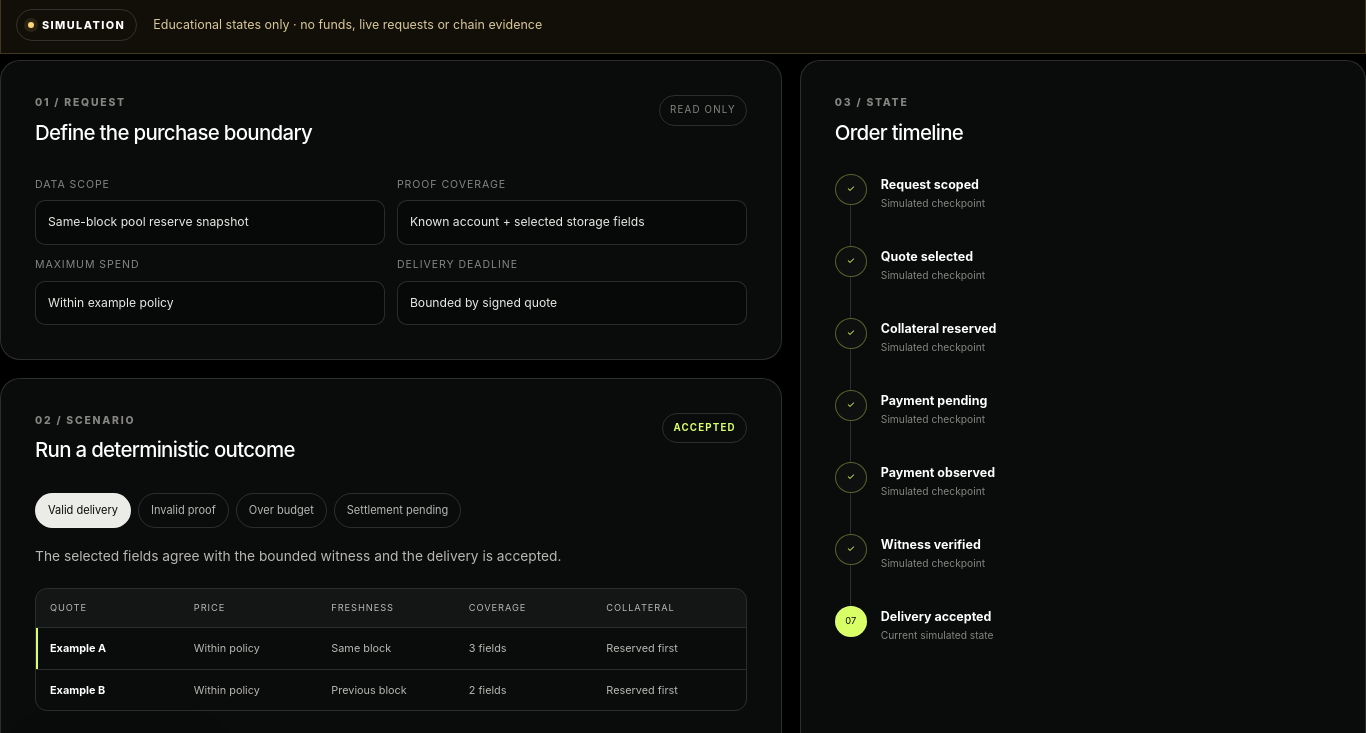
Test case: DemoConsole › separates original payment and warranty receipts for invalid delivery
Click the button "Invalid proof" at (183, 510), box left=138, top=493, right=229, bottom=528
(page scrolled)
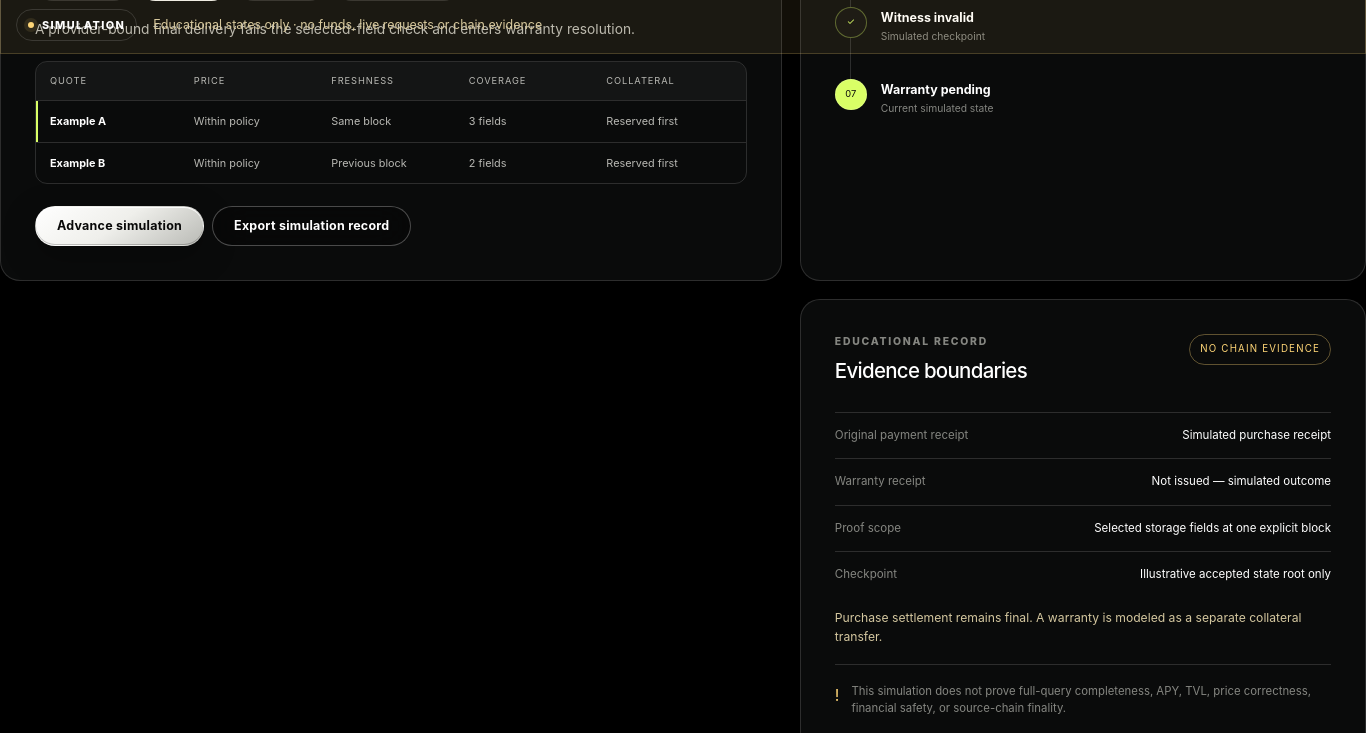
Expected: the text "Original payment receipt" is shown, left=835, top=427, right=968, bottom=444
Result: the text "separate collateral transfer" is shown at left=835, top=610, right=1301, bottom=644
